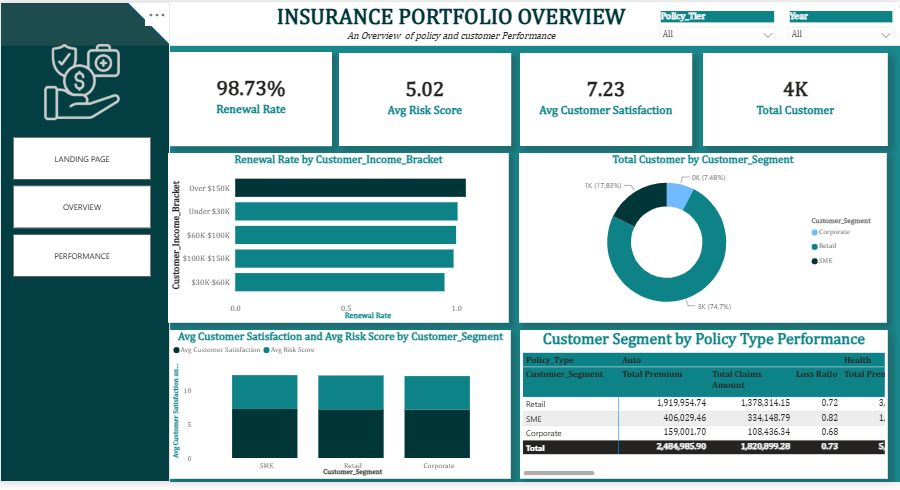

The dashboard page shown, as its layout file describes it:
{"tool":"powerbi","page":{"name":"PORTFOLIO","canvas":[1500,800],"ordinal":2},"visuals":[{"type":"textbox","box":[0,0,1511.7,73.3],"z":0},{"type":"cardVisual","fields":{"Data":["Measures Overview.Renewal Rate"]},"box":[283.3,83.3,270,156.7],"z":1000},{"type":"cardVisual","fields":{"Data":["Measures Customer.Total Customer"]},"box":[1171.7,85,308.3,155],"z":2000},{"type":"cardVisual","fields":{"Data":["Measures Overview.AVG RISK SCORE"]},"box":[565,85,286.7,155],"z":3000},{"type":"cardVisual","fields":{"Data":["Measures Customer.Avg Customer Satisfaction"]},"box":[866.7,85,286.7,155],"z":4000},{"type":"shape","box":[0,0,283.3,800],"z":5000},{"type":"pageNavigator","box":[21.7,225,230,235],"z":6000},{"type":"image","box":[31.7,70,210,126.7],"z":7000},{"type":"barChart","fields":{"Y":["Measures Overview.Renewal Rate"],"Category":["DimCustomer.Customer_Income_Bracket"]},"box":[280,251.7,568.3,283.3],"z":8000},{"type":"donutChart","fields":{"Y":["Measures Customer.Total Customer"],"Series":["DimCustomer.Customer_Segment"]},"box":[865,251.7,613.3,283.3],"z":9000},{"type":"columnChart","fields":{"Y":["Measures Customer.Avg Customer Satisfaction","Measures Overview.Avg Risk Score"],"Category":["DimCustomer.Customer_Segment"]},"box":[283.3,546.7,568.3,248.3],"z":10000},{"type":"pivotTable","title":"Customer Segment by Policy Type Performance","fields":{"Values":["Measures Overview.Total Premium","Measures Overview.Total Claims Amount","Measures Overview.Loss Ratio"],"Rows":["DimCustomer.Customer_Segment"],"Columns":["DimPolicy.Policy_Type"]},"box":[866.7,546.7,613.3,248.3],"z":11000},{"type":"slicer","fields":{"Values":["Date.Year"]},"box":[1303.3,10,196.7,51.7],"z":12000},{"type":"slicer","fields":{"Values":["DimPolicy.Policy_Tier"]},"box":[1088.3,10,215,51.7],"z":13000}]}

Visuals, with their boxes in screenshot pixels (x1, y1, x2, y2), scaled from the page's 1500x800 canvas onto the 900x490 screenshot:
textbox: 0, 0, 899, 45
cardVisual - Measures Overview.Renewal Rate: 170, 51, 332, 147
cardVisual - Measures Customer.Total Customer: 703, 52, 888, 147
cardVisual - Measures Overview.AVG RISK SCORE: 339, 52, 511, 147
cardVisual - Measures Customer.Avg Customer Satisfaction: 520, 52, 692, 147
shape: 0, 0, 170, 489
pageNavigator: 13, 138, 151, 282
image: 19, 43, 145, 120
barChart - Measures Overview.Renewal Rate x DimCustomer.Customer_Income_Bracket: 168, 154, 509, 328
donutChart - Measures Customer.Total Customer x DimCustomer.Customer_Segment: 519, 154, 887, 328
columnChart - Measures Customer.Avg Customer Satisfaction x Measures Overview.Avg Risk Score: 170, 335, 511, 487
"Customer Segment by Policy Type Performance" pivotTable: 520, 335, 888, 487
slicer - Date.Year: 782, 6, 899, 38
slicer - DimPolicy.Policy_Tier: 653, 6, 782, 38
